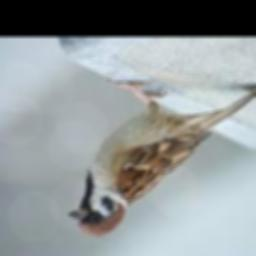Sparrow: (69, 81, 256, 238)
